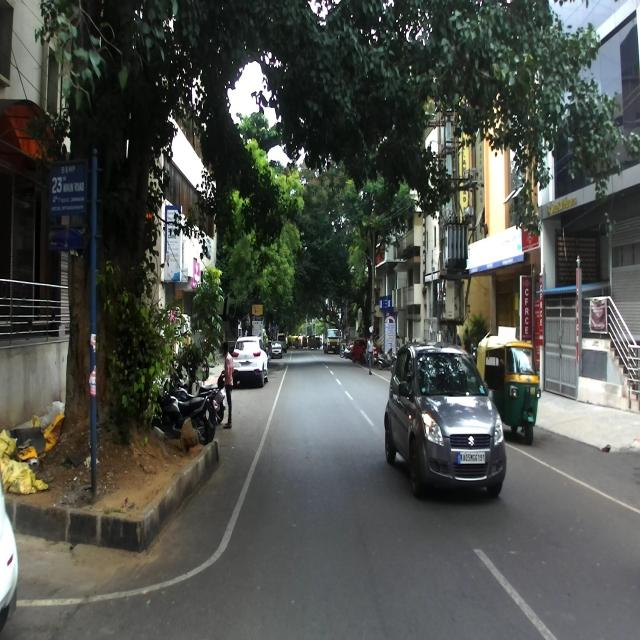Car_Hyundai: (232, 329, 268, 388)
Car_Maruti-Suzuki: (383, 342, 507, 499)
autorickshaw: (475, 335, 541, 445)
motorcycle_Hero: (152, 387, 214, 446)
scooter: (173, 376, 224, 416)
